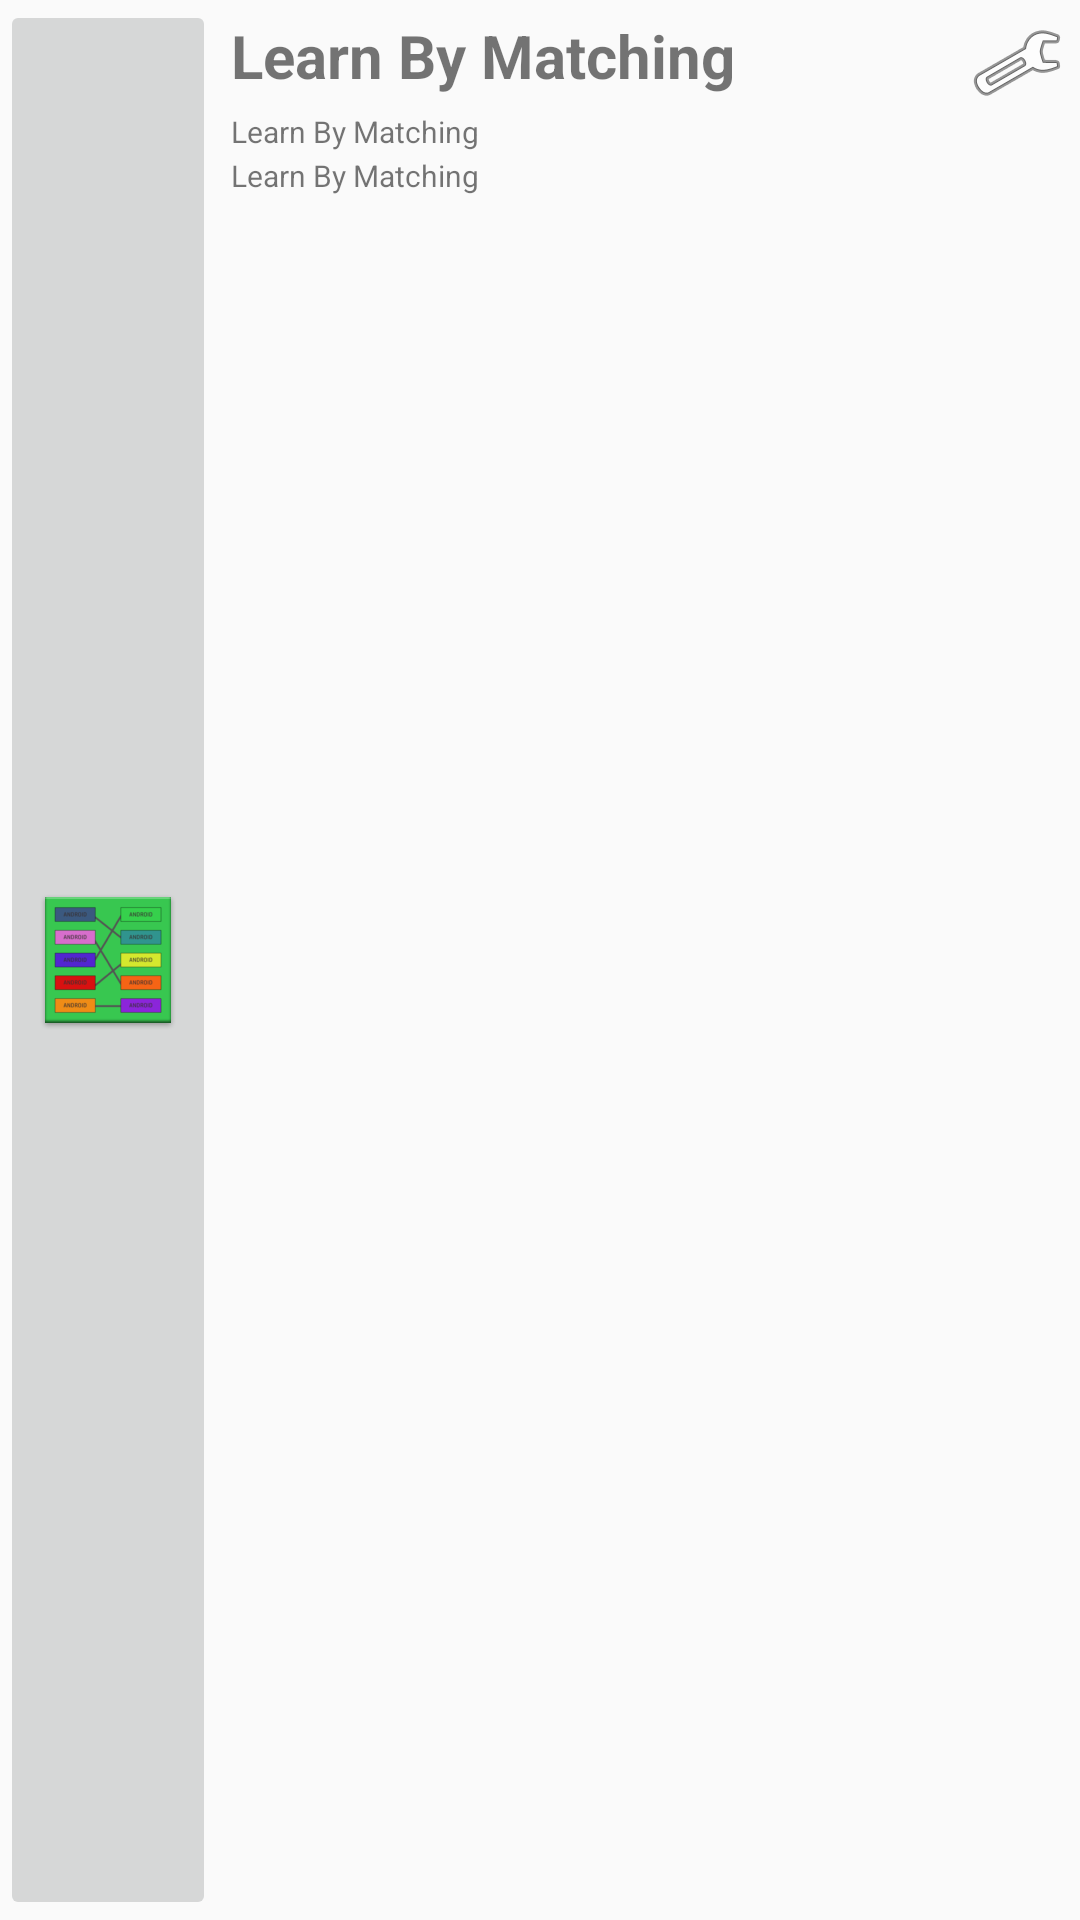

Screen size 1080w x 1920h. Icon name, then its box in pixels as (x1=x1, y1=y1, x2=x2, y2=y2):
manage: (x1=974, y1=30, x2=1060, y2=96)
